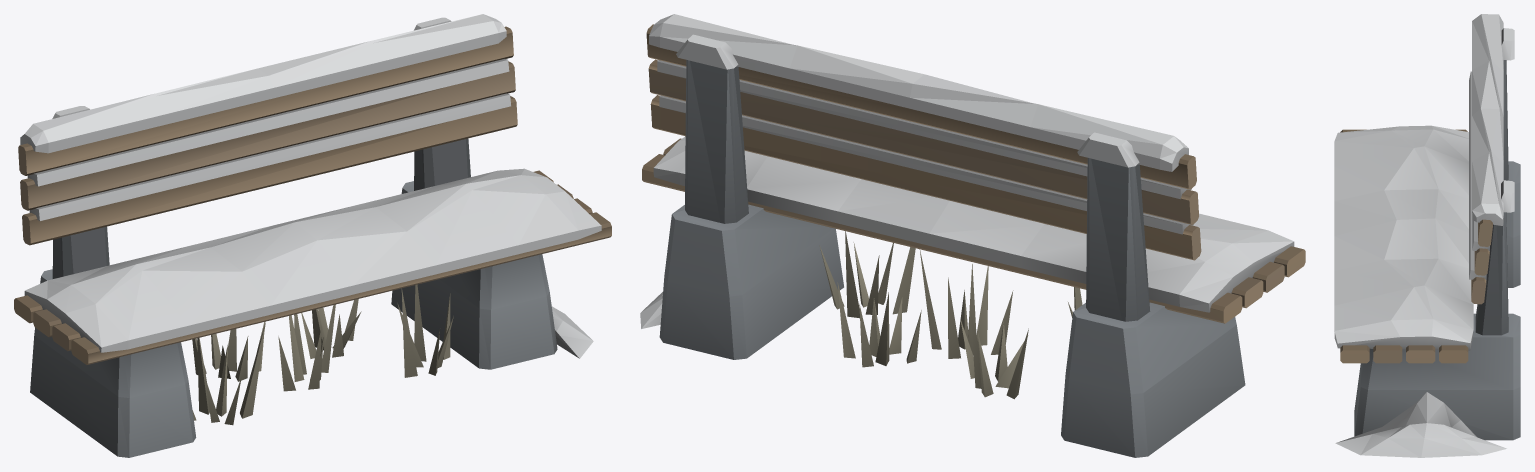
Rendered from bench.glb.
3 views of the same model, side by side, from view 1: azimuth 30°, elevation 25°; view 2: azimuth 150°, elevation 25°; view 3: azimuth 270°, elevation 25° (orthographic). The views are drawn at different scales.
Parts seen in each view (by area): view 1: bench.001; view 2: bench.001; view 3: bench.001.
Part boxes in pixels (x1=…): bench.001: x1=14, y1=14, x2=611, y2=457; bench.001: x1=640, y1=14, x2=1305, y2=457; bench.001: x1=1334, y1=14, x2=1520, y2=457.
Bounding box in the file's own units: 2 × 1.03 × 0.7125.
